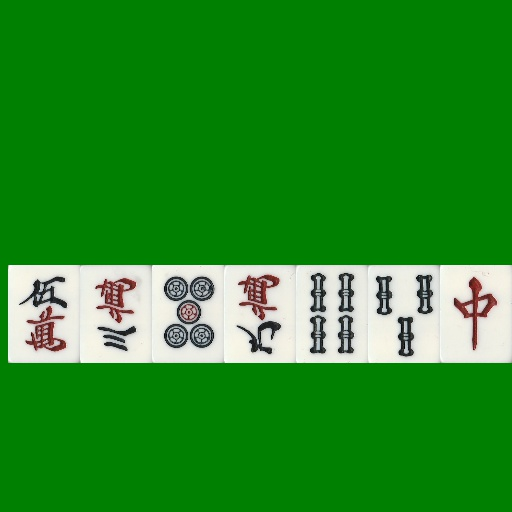3m: (80, 265, 152, 363)
3s: (368, 265, 440, 363)
4s: (296, 265, 368, 363)
5m: (8, 265, 80, 363)
5p: (152, 265, 224, 363)
9m: (224, 265, 296, 363)
tyun: (440, 265, 512, 363)
